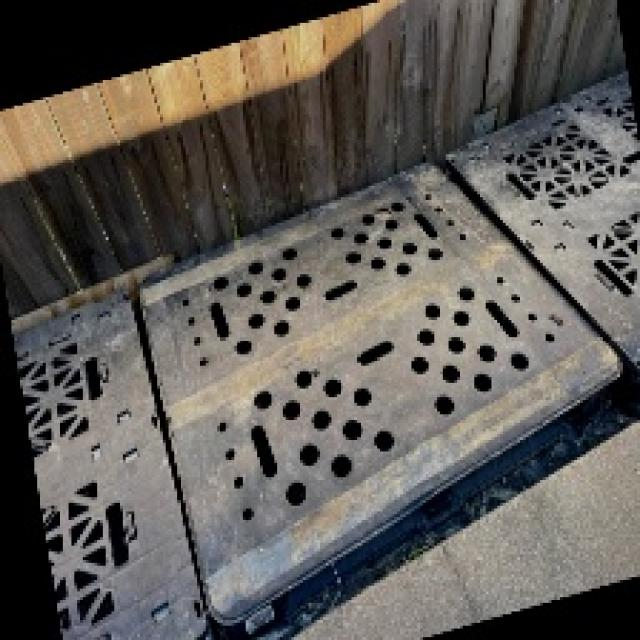igps: (128, 154, 628, 640), (0, 271, 234, 637), (432, 59, 640, 432)
